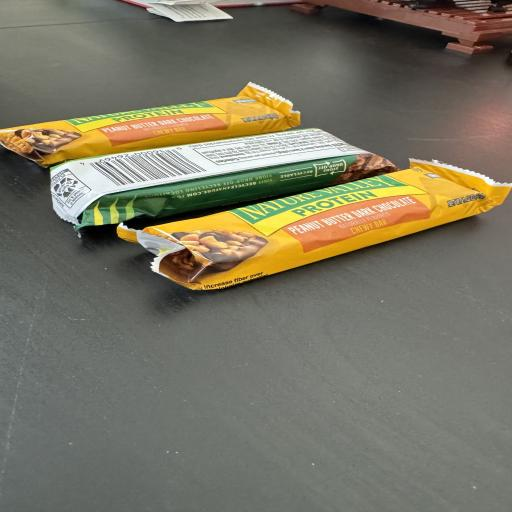granola: (118, 160, 511, 289), (51, 129, 397, 228), (0, 83, 300, 166)
